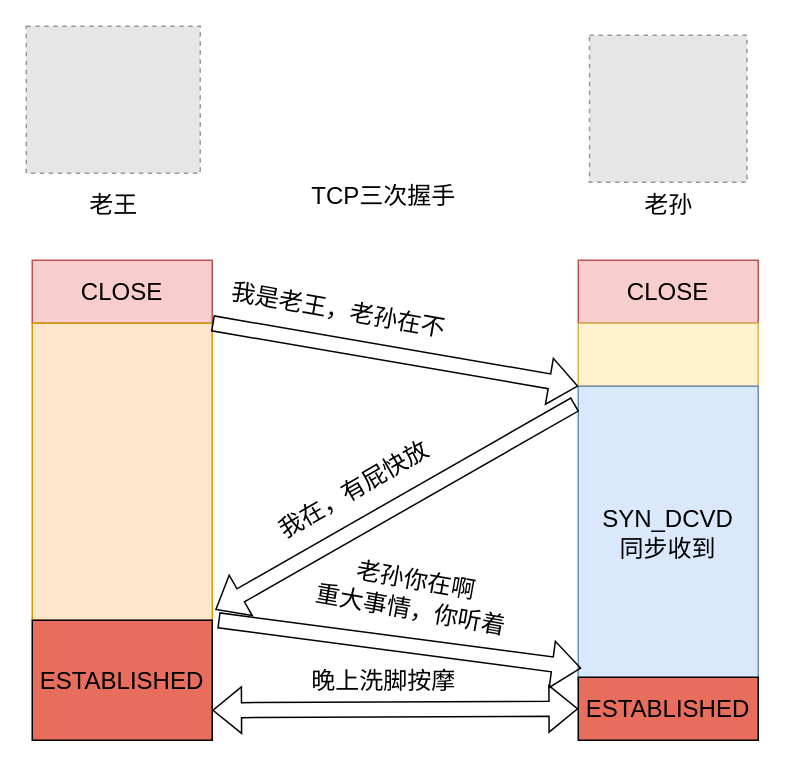
Image size: 785x767. Some labels were removed from this diagram. Grey dashed boxes stand in for pictures. The shapes that lost their labels are listed below. From the top down, each one's centre as x and y in pixels, then its label:
At point 667,354: "LISTEN".
At point 121,471: "SYN_SEND 同步发送状态".
